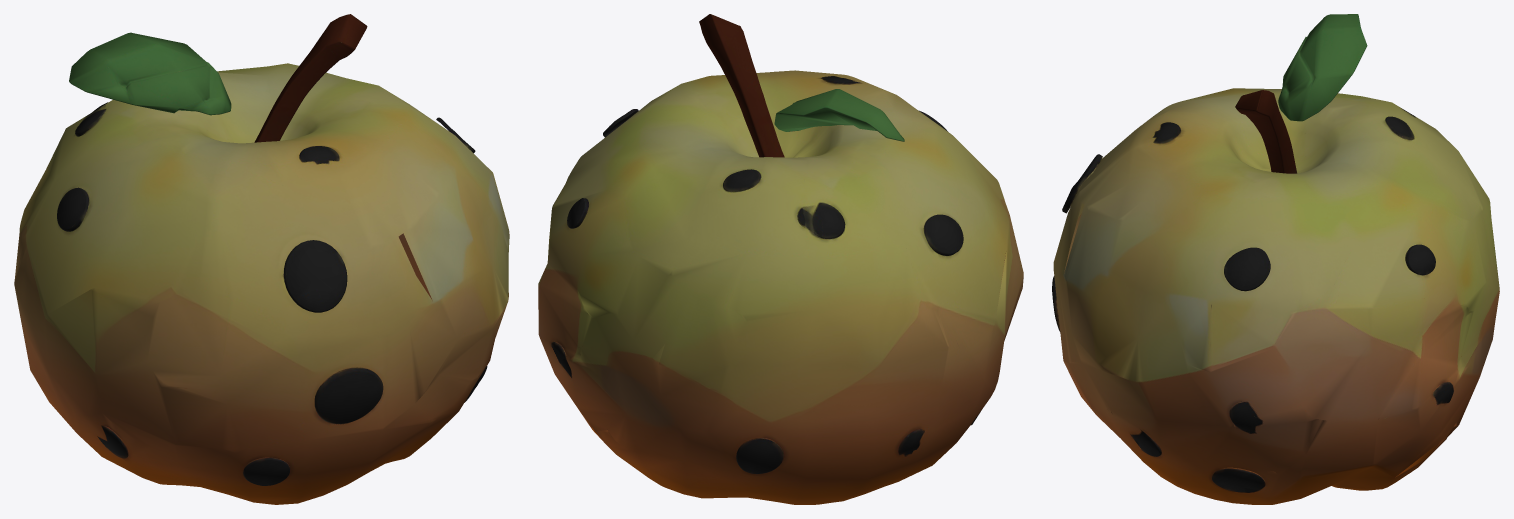
The model's file is apple-rot.glb.
The picture shows the model from 3 angles, left to right: view 1: azimuth 30°, elevation 25°; view 2: azimuth 150°, elevation 25°; view 3: azimuth 270°, elevation 25°; orthographic projection. The views are drawn at different scales.
Visible parts, largest first — view 1: tripo_node_0d8d6b95-92e3-4163-9a94-1a2fb128610e; view 2: tripo_node_0d8d6b95-92e3-4163-9a94-1a2fb128610e; view 3: tripo_node_0d8d6b95-92e3-4163-9a94-1a2fb128610e.
Part boxes in pixels (x1,y1,x2,y2): tripo_node_0d8d6b95-92e3-4163-9a94-1a2fb128610e: [14, 14, 509, 504]; tripo_node_0d8d6b95-92e3-4163-9a94-1a2fb128610e: [538, 14, 1023, 504]; tripo_node_0d8d6b95-92e3-4163-9a94-1a2fb128610e: [1052, 14, 1499, 504].
Size of the model in its own units: 0.9995 by 0.9253 by 0.9429.
1 material, 1 textured.
